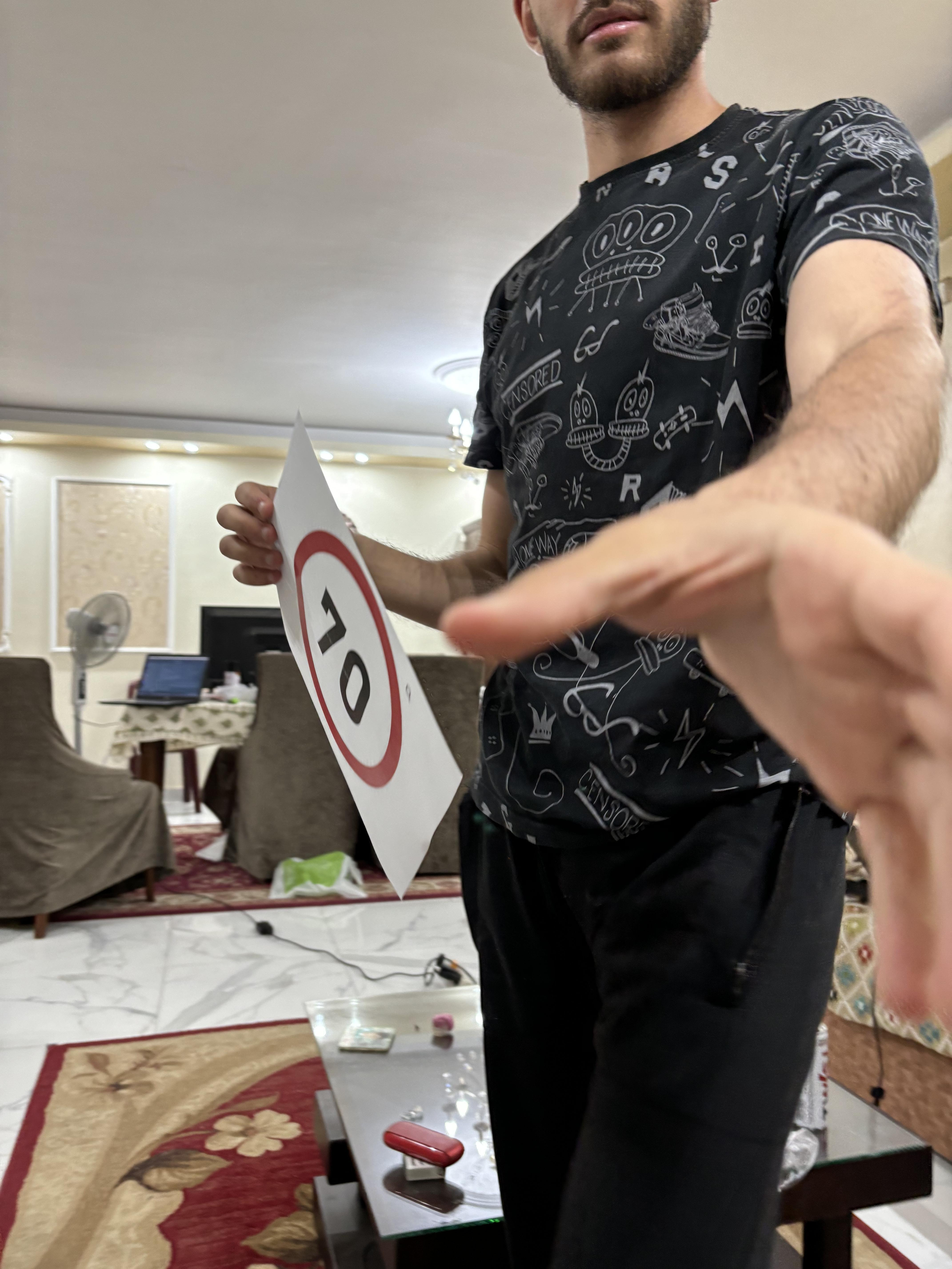70-Speed: (287, 520, 408, 796)
